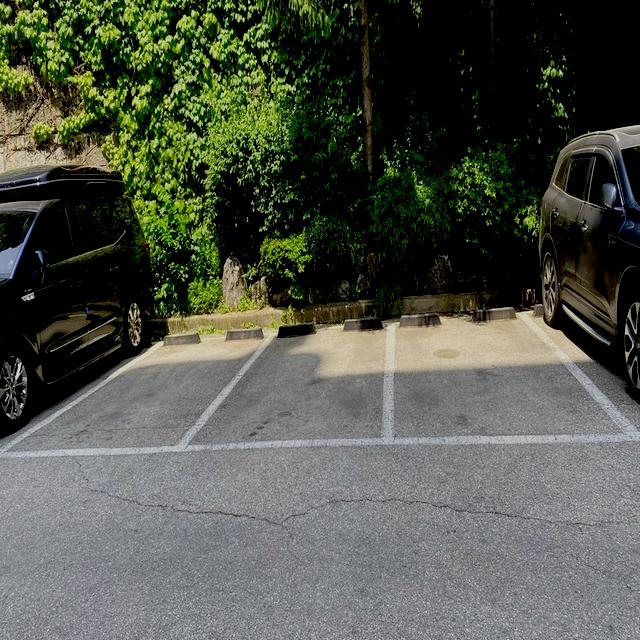empty: (0, 322, 290, 464), (372, 309, 637, 449), (169, 317, 398, 455)
